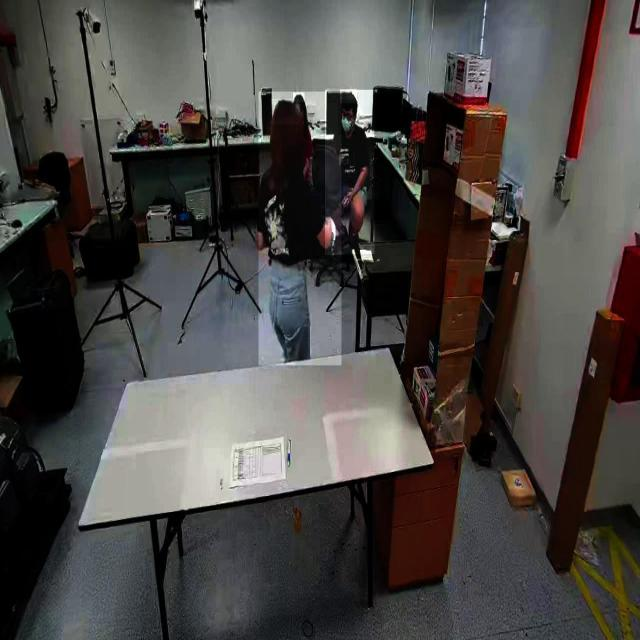face_mask: (338, 100, 354, 135)
hand_noglove: (343, 187, 353, 209)
head_nohelmet: (270, 99, 300, 125), (340, 89, 358, 104), (293, 93, 305, 103)
person: (258, 92, 342, 366), (325, 90, 375, 255)
